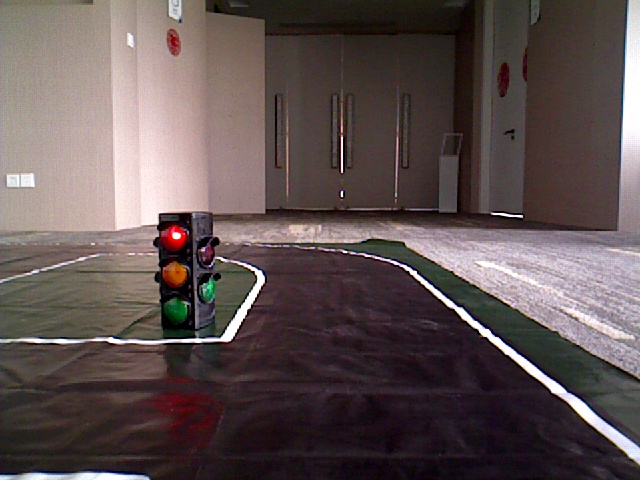red: (159, 215, 196, 323)
